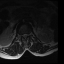CCS_normal: (24, 32, 26, 40)
LFS_stenosis: (28, 32, 29, 37)
LLS_normal: (26, 33, 28, 38)
RFS_severe_stenosis: (20, 33, 22, 38)
RLS_normal: (22, 33, 24, 38)
